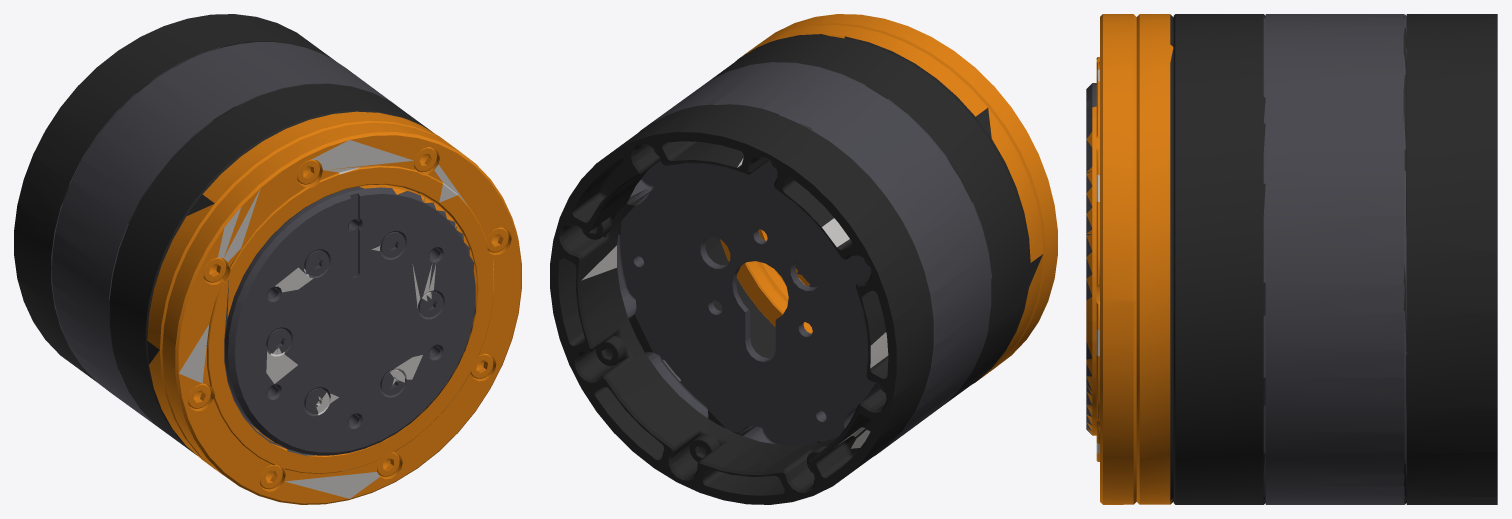
The picture shows the model from 3 angles, left to right: view 1: azimuth 30°, elevation 25°; view 2: azimuth 150°, elevation 25°; view 3: azimuth 270°, elevation 25°; orthographic projection. The views are drawn at different scales.
Parts seen in each view (by area): view 1: m3, m2, m0, m4; view 2: m0, m3, m2, m1, m4; view 3: m0, m3, m2.
Part boxes in pixels (left/top/right/bottom): m3: left=51, top=42, right=475, bottom=455; m2: left=147, top=111, right=521, bottom=504; m0: left=14, top=14, right=432, bottom=455; m4: left=179, top=140, right=493, bottom=498; m0: left=550, top=34, right=1042, bottom=504; m3: left=617, top=62, right=991, bottom=455; m2: left=720, top=14, right=1057, bottom=380; m1: left=622, top=274, right=870, bottom=471; m4: left=581, top=158, right=888, bottom=448; m0: left=1170, top=14, right=1497, bottom=504; m3: left=1086, top=14, right=1406, bottom=504; m2: left=1086, top=14, right=1173, bottom=504.
Bounding box in the file's own units: 0.08 × 0.08 × 0.067.
